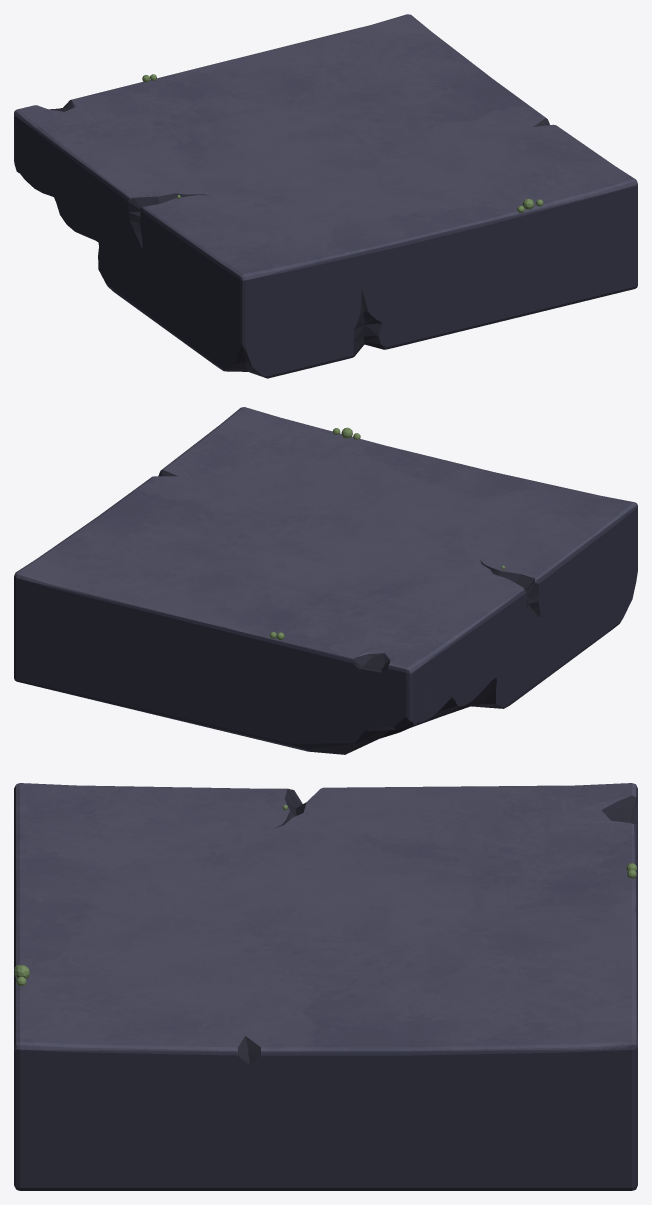
File: 2Platform.fbx
The picture shows the model from 3 angles, top to bottom: view 1: azimuth 30°, elevation 25°; view 2: azimuth 150°, elevation 25°; view 3: azimuth 270°, elevation 25°; orthographic projection. The views are drawn at different scales.
Parts seen in each view (by area): view 1: Icosphere.003; view 2: Icosphere.003; view 3: Icosphere.003.
Part boxes in pixels (x1,y1,x2,y2): Icosphere.003: [14, 14, 637, 378]; Icosphere.003: [14, 407, 637, 754]; Icosphere.003: [14, 783, 637, 1190].
Size of the model in its own units: 260 by 260 by 71.71.
1 material, 1 textured.
